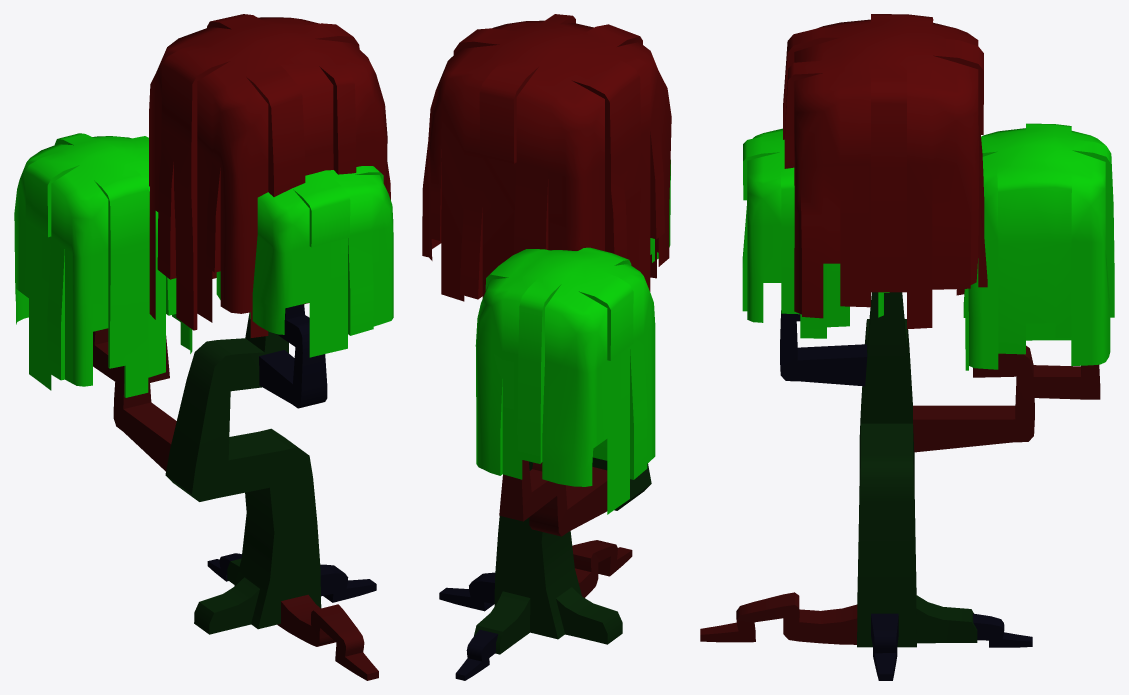
Rendered from SM_Tree03.FBX.
3 views of the same model, side by side, from view 1: azimuth 30°, elevation 25°; view 2: azimuth 150°, elevation 25°; view 3: azimuth 270°, elevation 25° (orthographic). The views are drawn at different scales.
Parts seen in each view (by area): view 1: Box223; view 2: Box223; view 3: Box223.
Part boxes in pixels (<box>): Box223: <box>14,14,393,680</box>; Box223: <box>422,14,671,680</box>; Box223: <box>700,14,1114,680</box>.
Size of the model in its own units: 993 by 1354 by 2156.
